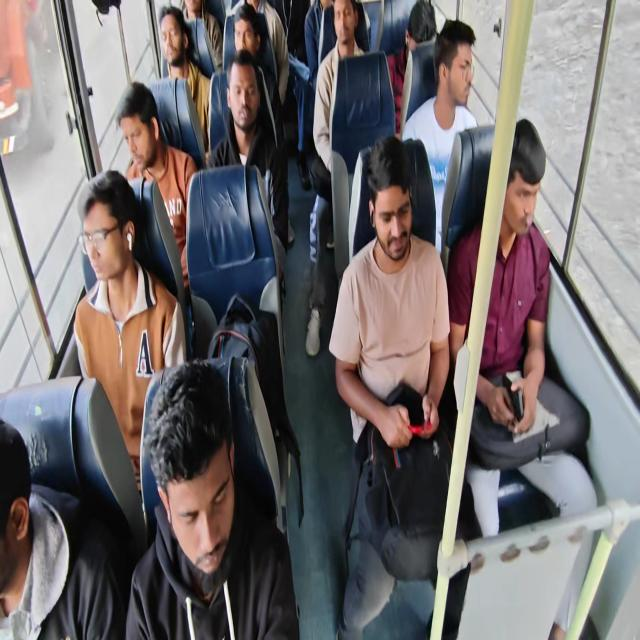person: (446, 117, 598, 638), (328, 134, 476, 638), (125, 357, 300, 639), (73, 169, 187, 500), (0, 418, 126, 639), (304, 0, 367, 356), (401, 18, 478, 254), (116, 80, 198, 292), (207, 49, 289, 253), (158, 5, 211, 152), (232, 3, 284, 148), (385, 0, 437, 136), (304, 0, 336, 89), (182, 0, 223, 69)
